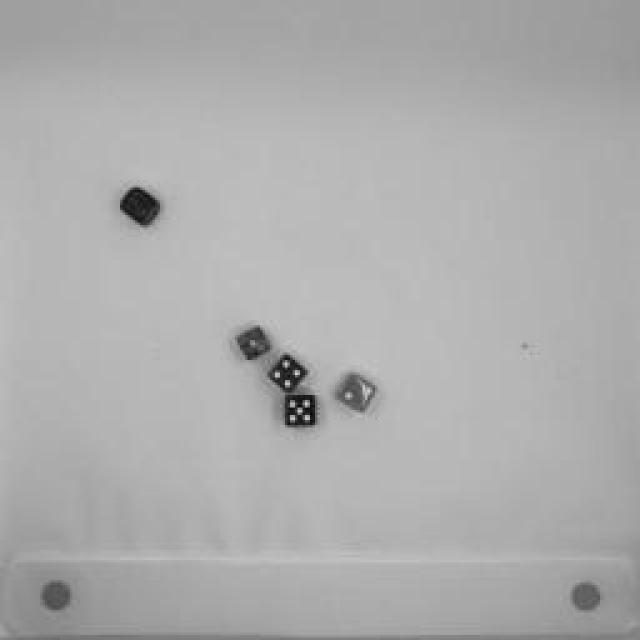dice_1: (239, 322, 271, 362)
dice_2: (335, 375, 377, 415)
dice_3: (116, 185, 162, 227)
dice_4: (270, 356, 308, 392)
dice_5: (281, 395, 321, 430)
